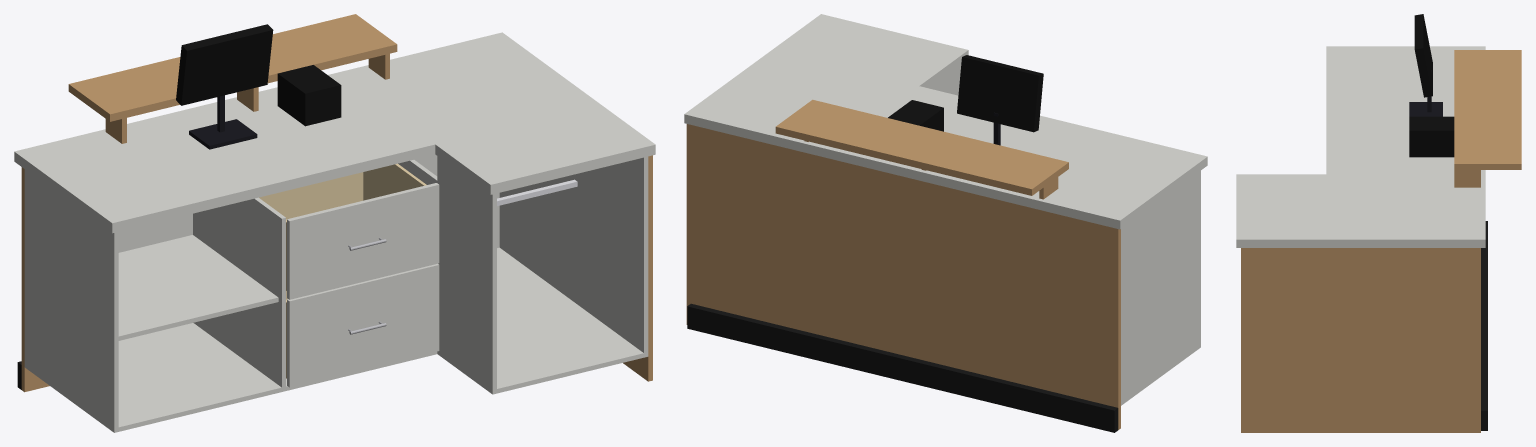
File: 064_l_shaped_cash_wrap_counter.glb
3 views of the same model, side by side, from view 1: azimuth 30°, elevation 25°; view 2: azimuth 150°, elevation 25°; view 3: azimuth 270°, elevation 25° (orthographic). The views are drawn at different scales.
Parts seen in each view (by area): view 1: 005_main_top, 000_carcass_side_l, 002_carcass_bottom, 014_drawer_1_front, 023_drawer_2_front, 033_carcass_side_l, 037_return_top, 013_gift_wrap_shelf, 034_carcass_side_r, 011_partition_1, 006_transaction_ledge, 001_carcass_side_r (+10 smaller); view 2: 004_customer_front_panel, 005_main_top, 000_carcass_side_l, 010_customer_kick, 006_transaction_ledge, 037_return_top, 040_pos_monitor, 041_receipt_printer, 036_return_outer_panel, 033_carcass_side_l; view 3: 036_return_outer_panel, 005_main_top, 006_transaction_ledge, 037_return_top, 041_receipt_printer, 010_customer_kick, 040_pos_monitor, 009_ledge_support, 038_pos_monitor_stand.
Part boxes in pixels (box(x1,y1,x2,y2)): 005_main_top: box(14, 32, 599, 233); 000_carcass_side_l: box(24, 169, 118, 432); 002_carcass_bottom: box(118, 247, 588, 431); 014_drawer_1_front: box(287, 263, 439, 387); 023_drawer_2_front: box(287, 183, 439, 299); 033_carcass_side_l: box(437, 156, 496, 394); 037_return_top: box(435, 104, 655, 194); 013_gift_wrap_shelf: box(118, 235, 278, 340); 034_carcass_side_r: box(588, 156, 648, 357); 011_partition_1: box(193, 197, 285, 387); 006_transaction_ledge: box(68, 14, 397, 121); 001_carcass_side_r: box(499, 171, 588, 312); 004_customer_front_panel: box(691, 125, 1120, 429); 005_main_top: box(684, 50, 1207, 229); 000_carcass_side_l: box(1121, 170, 1200, 405); 010_customer_kick: box(687, 303, 1118, 432); 006_transaction_ledge: box(775, 99, 1068, 195); 037_return_top: box(772, 14, 968, 88); 040_pos_monitor: box(957, 55, 1043, 132); 041_receipt_printer: box(888, 100, 943, 131); 036_return_outer_panel: box(686, 124, 690, 324); 033_carcass_side_l: box(929, 64, 961, 95); 036_return_outer_panel: box(1241, 248, 1480, 432); 005_main_top: box(1326, 46, 1485, 247); 006_transaction_ledge: box(1454, 50, 1521, 169); 037_return_top: box(1236, 174, 1326, 247); 041_receipt_printer: box(1409, 116, 1454, 157); 010_customer_kick: box(1481, 221, 1487, 430); 040_pos_monitor: box(1414, 14, 1432, 97); 009_ledge_support: box(1454, 170, 1480, 187); 038_pos_monitor_stand: box(1409, 102, 1442, 116).
Size of the model in its own units: 2.04 by 1.36 by 1.27.
